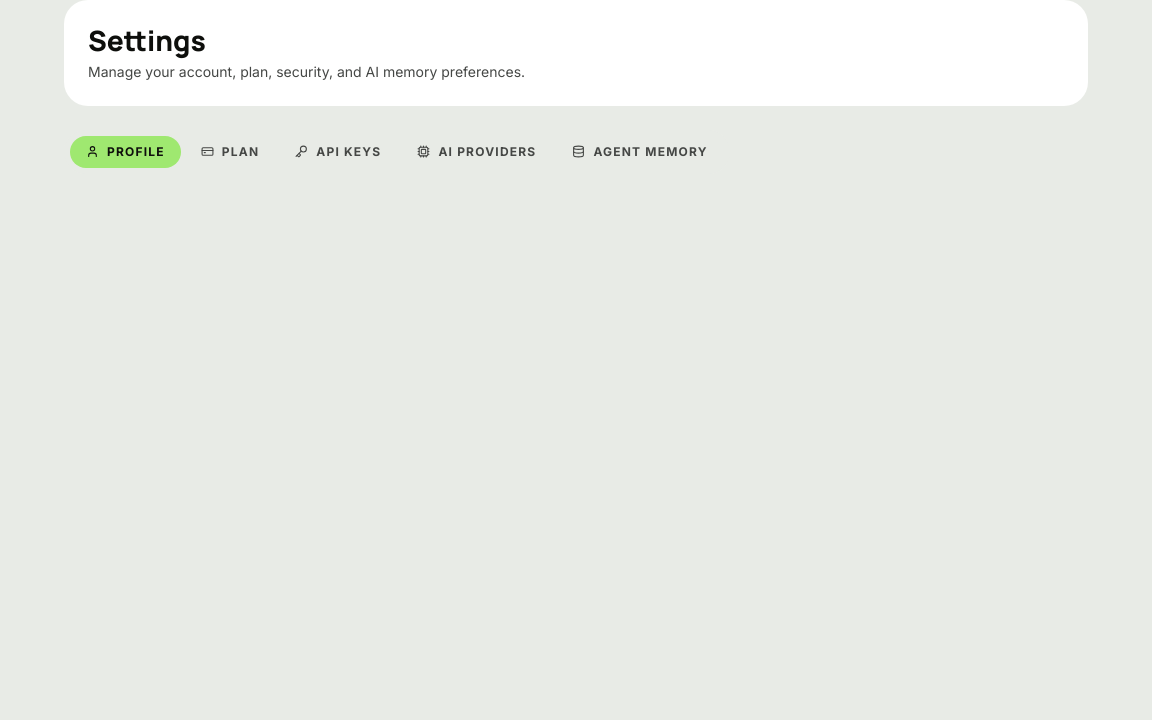
SettingsPage — AI Providers tab › shows the empty state when no keys are configured
The width and height of the screenshot is (1152, 720).
Click the button "AI Providers": (477, 152) x1=401 y1=136 x2=552 y2=168
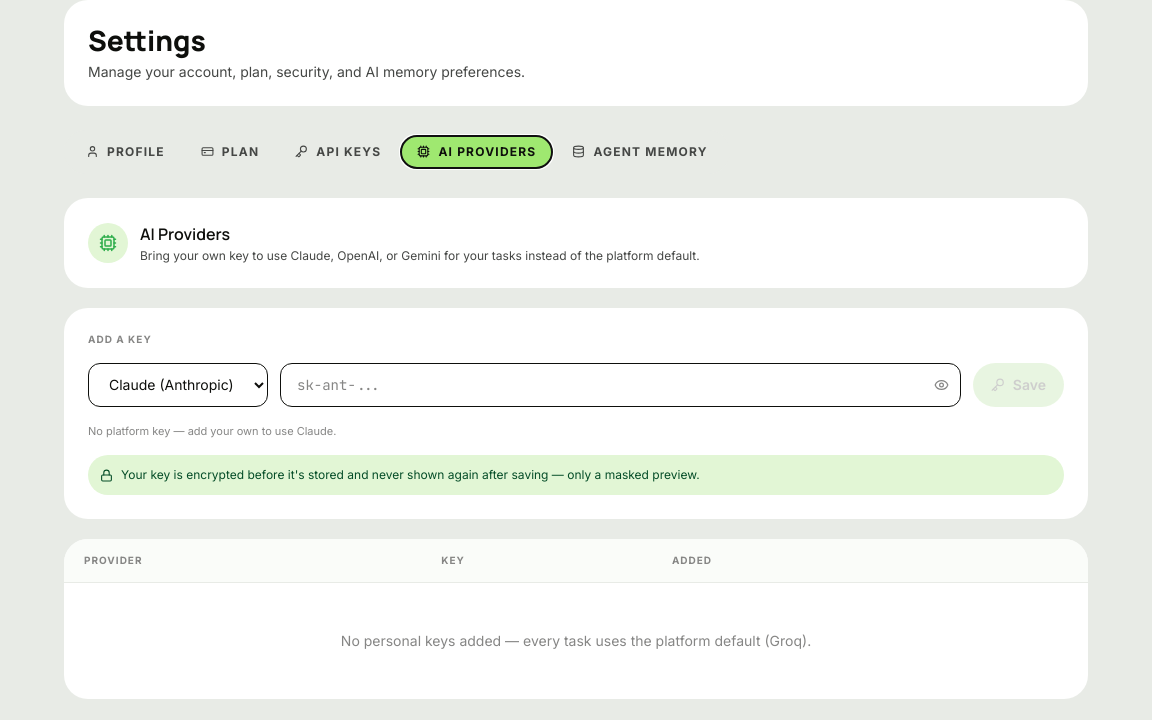
expect the text "No personal keys added" is shown: met, box x1=341 y1=632 x2=811 y2=649
